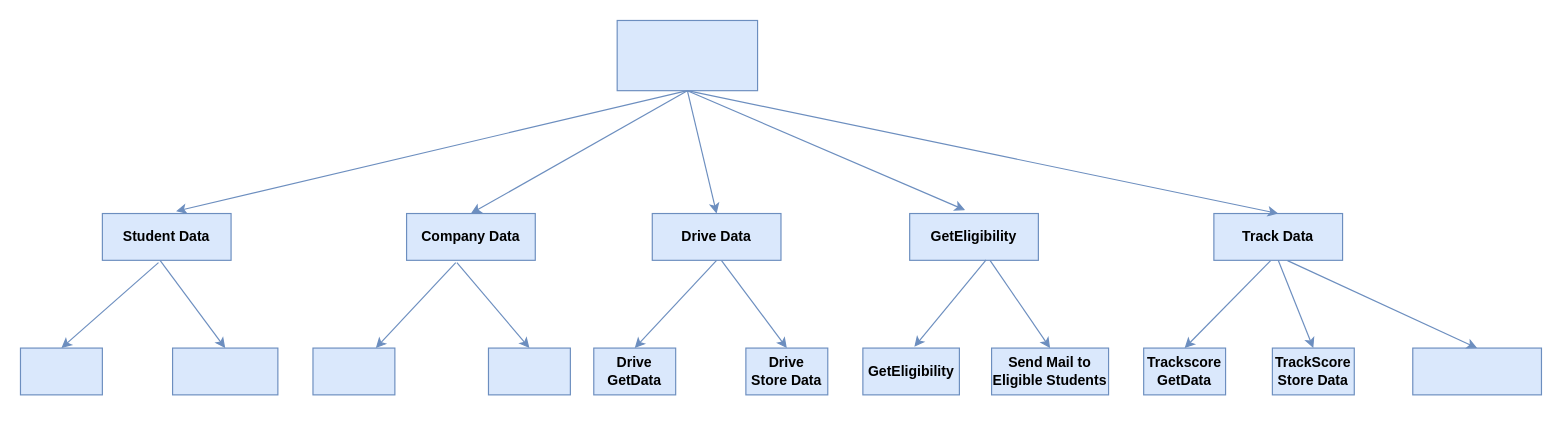
Some shapes in this 1562 by 425 pixel diagram are drawn without their labels. Each missing label, with the box of its shape:
Campus Recruitment System: (616, 19, 758, 91)
Company GetData: (312, 347, 395, 395)
Company Store Data: (487, 347, 570, 395)
Send Mail to SelectedStudents: (1412, 347, 1541, 395)
Student GetData: (19, 347, 102, 395)
Student StoreData: (171, 347, 278, 395)
